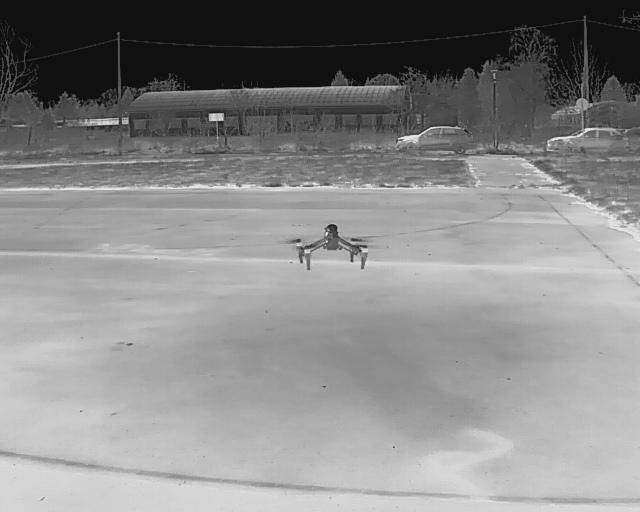drone: (286, 220, 373, 272)
